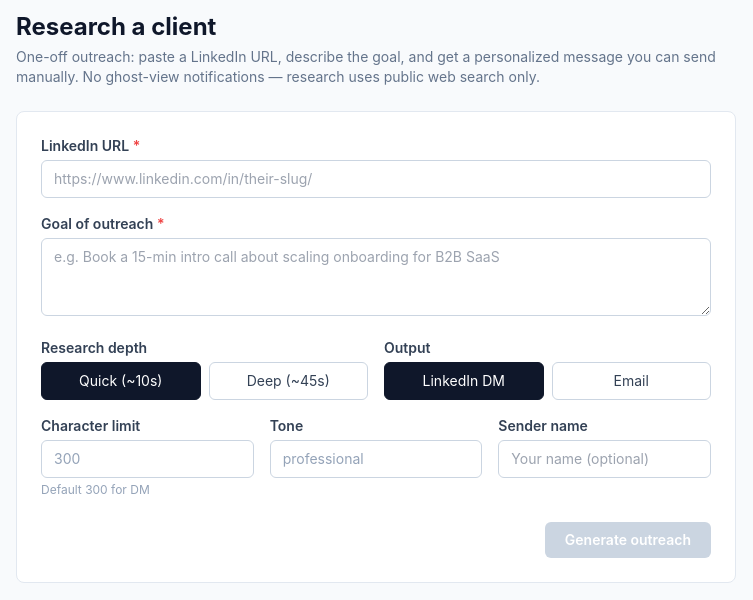
ResearchClient page › submit is disabled until url + goal are filled
Check: the button with test id "submit-research" is disabled, box [545, 522, 711, 558]
Type "https://www.linkedin.com/in/jane/" into the field with test id "input-linkedin-url" at (376, 179), box [41, 160, 711, 198]
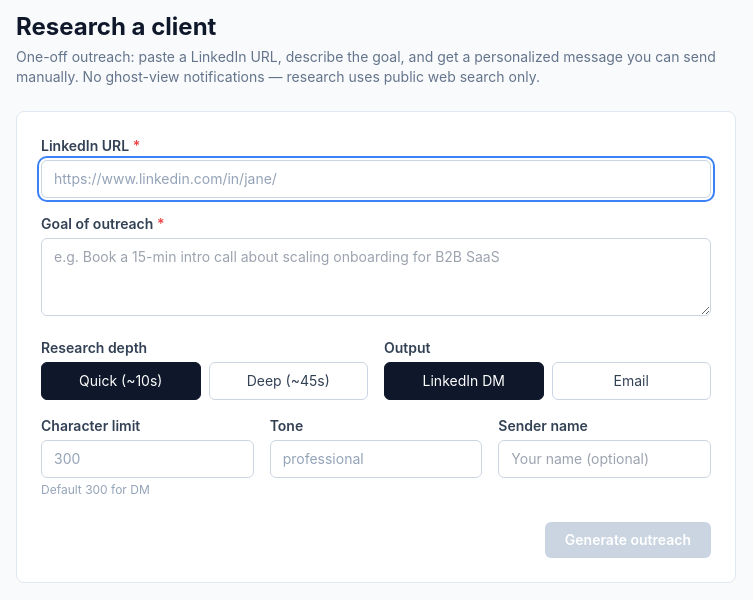
Check: the button with test id "submit-research" is disabled, box [545, 522, 711, 558]
Type "Book a call" into the text box with test id "input-goal" at (376, 277), box [41, 238, 711, 316]
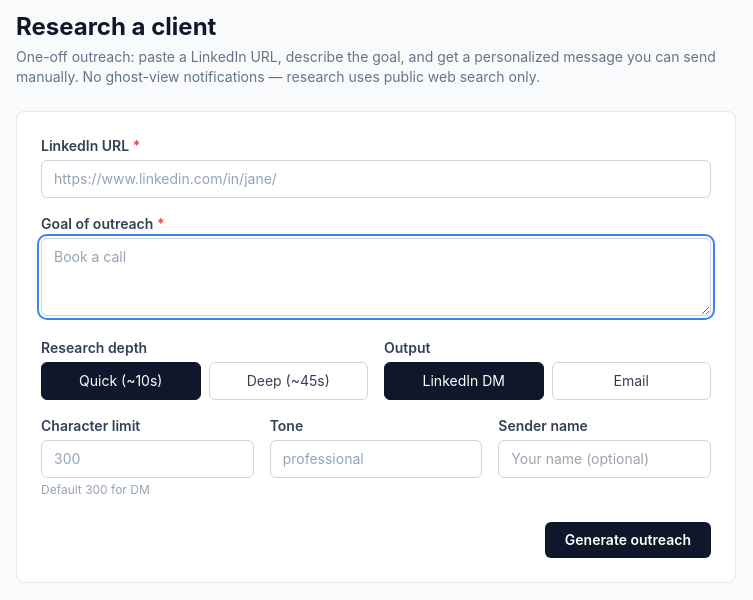
Check: the button with test id "submit-research" is enabled, box [545, 522, 711, 558]
